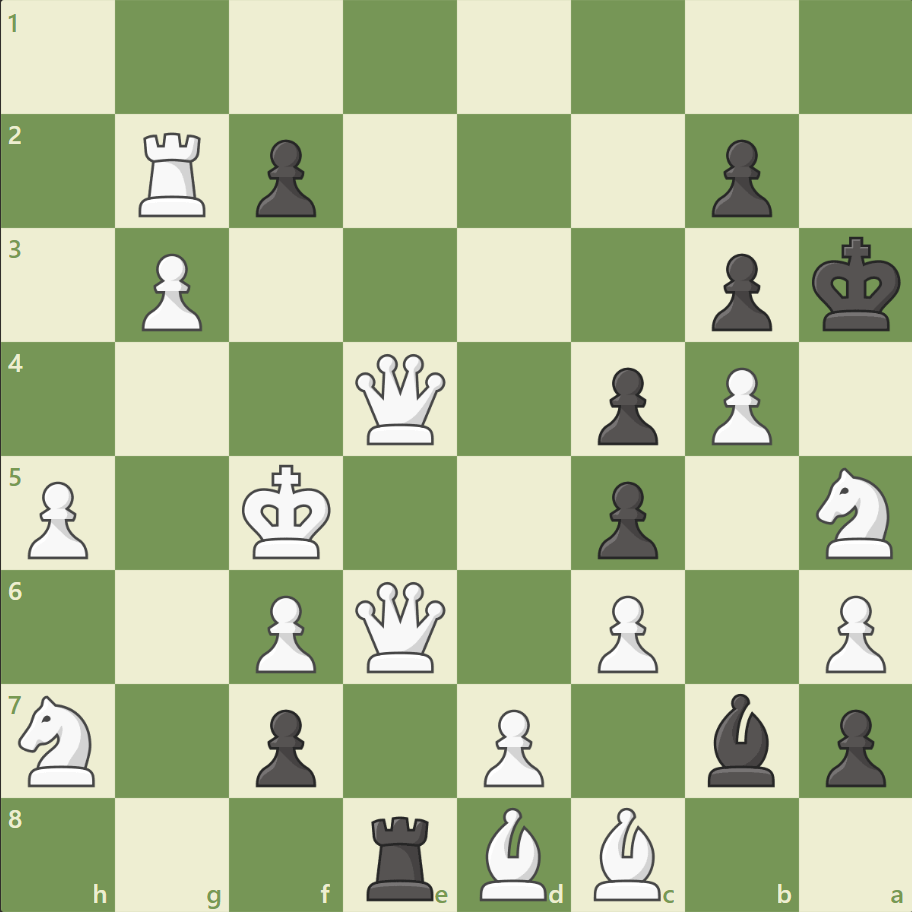B: (585, 801, 669, 904), (471, 801, 555, 904)
K: (238, 458, 338, 566)
N: (11, 688, 108, 791), (806, 461, 903, 564)
P: (474, 700, 549, 791), (247, 586, 322, 677), (20, 473, 95, 564), (701, 359, 776, 450), (133, 246, 208, 337), (815, 586, 889, 677), (588, 586, 662, 677)
Q: (351, 576, 450, 676), (351, 349, 450, 449)
R: (133, 125, 215, 222)
b: (698, 687, 782, 790)
k: (806, 231, 906, 339)
p: (247, 700, 322, 791), (701, 246, 776, 337), (701, 132, 776, 223), (247, 132, 322, 223), (815, 700, 889, 791), (588, 473, 662, 564), (588, 359, 662, 450)
r: (360, 806, 442, 904)
